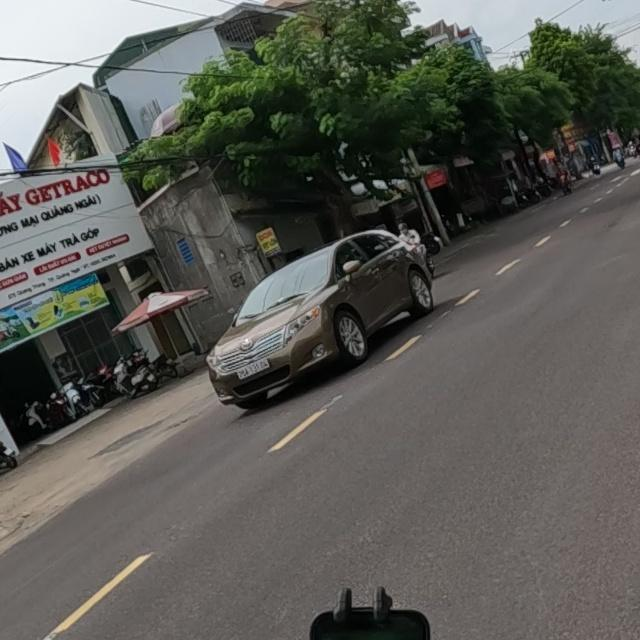license-plate: (235, 358, 271, 381)
